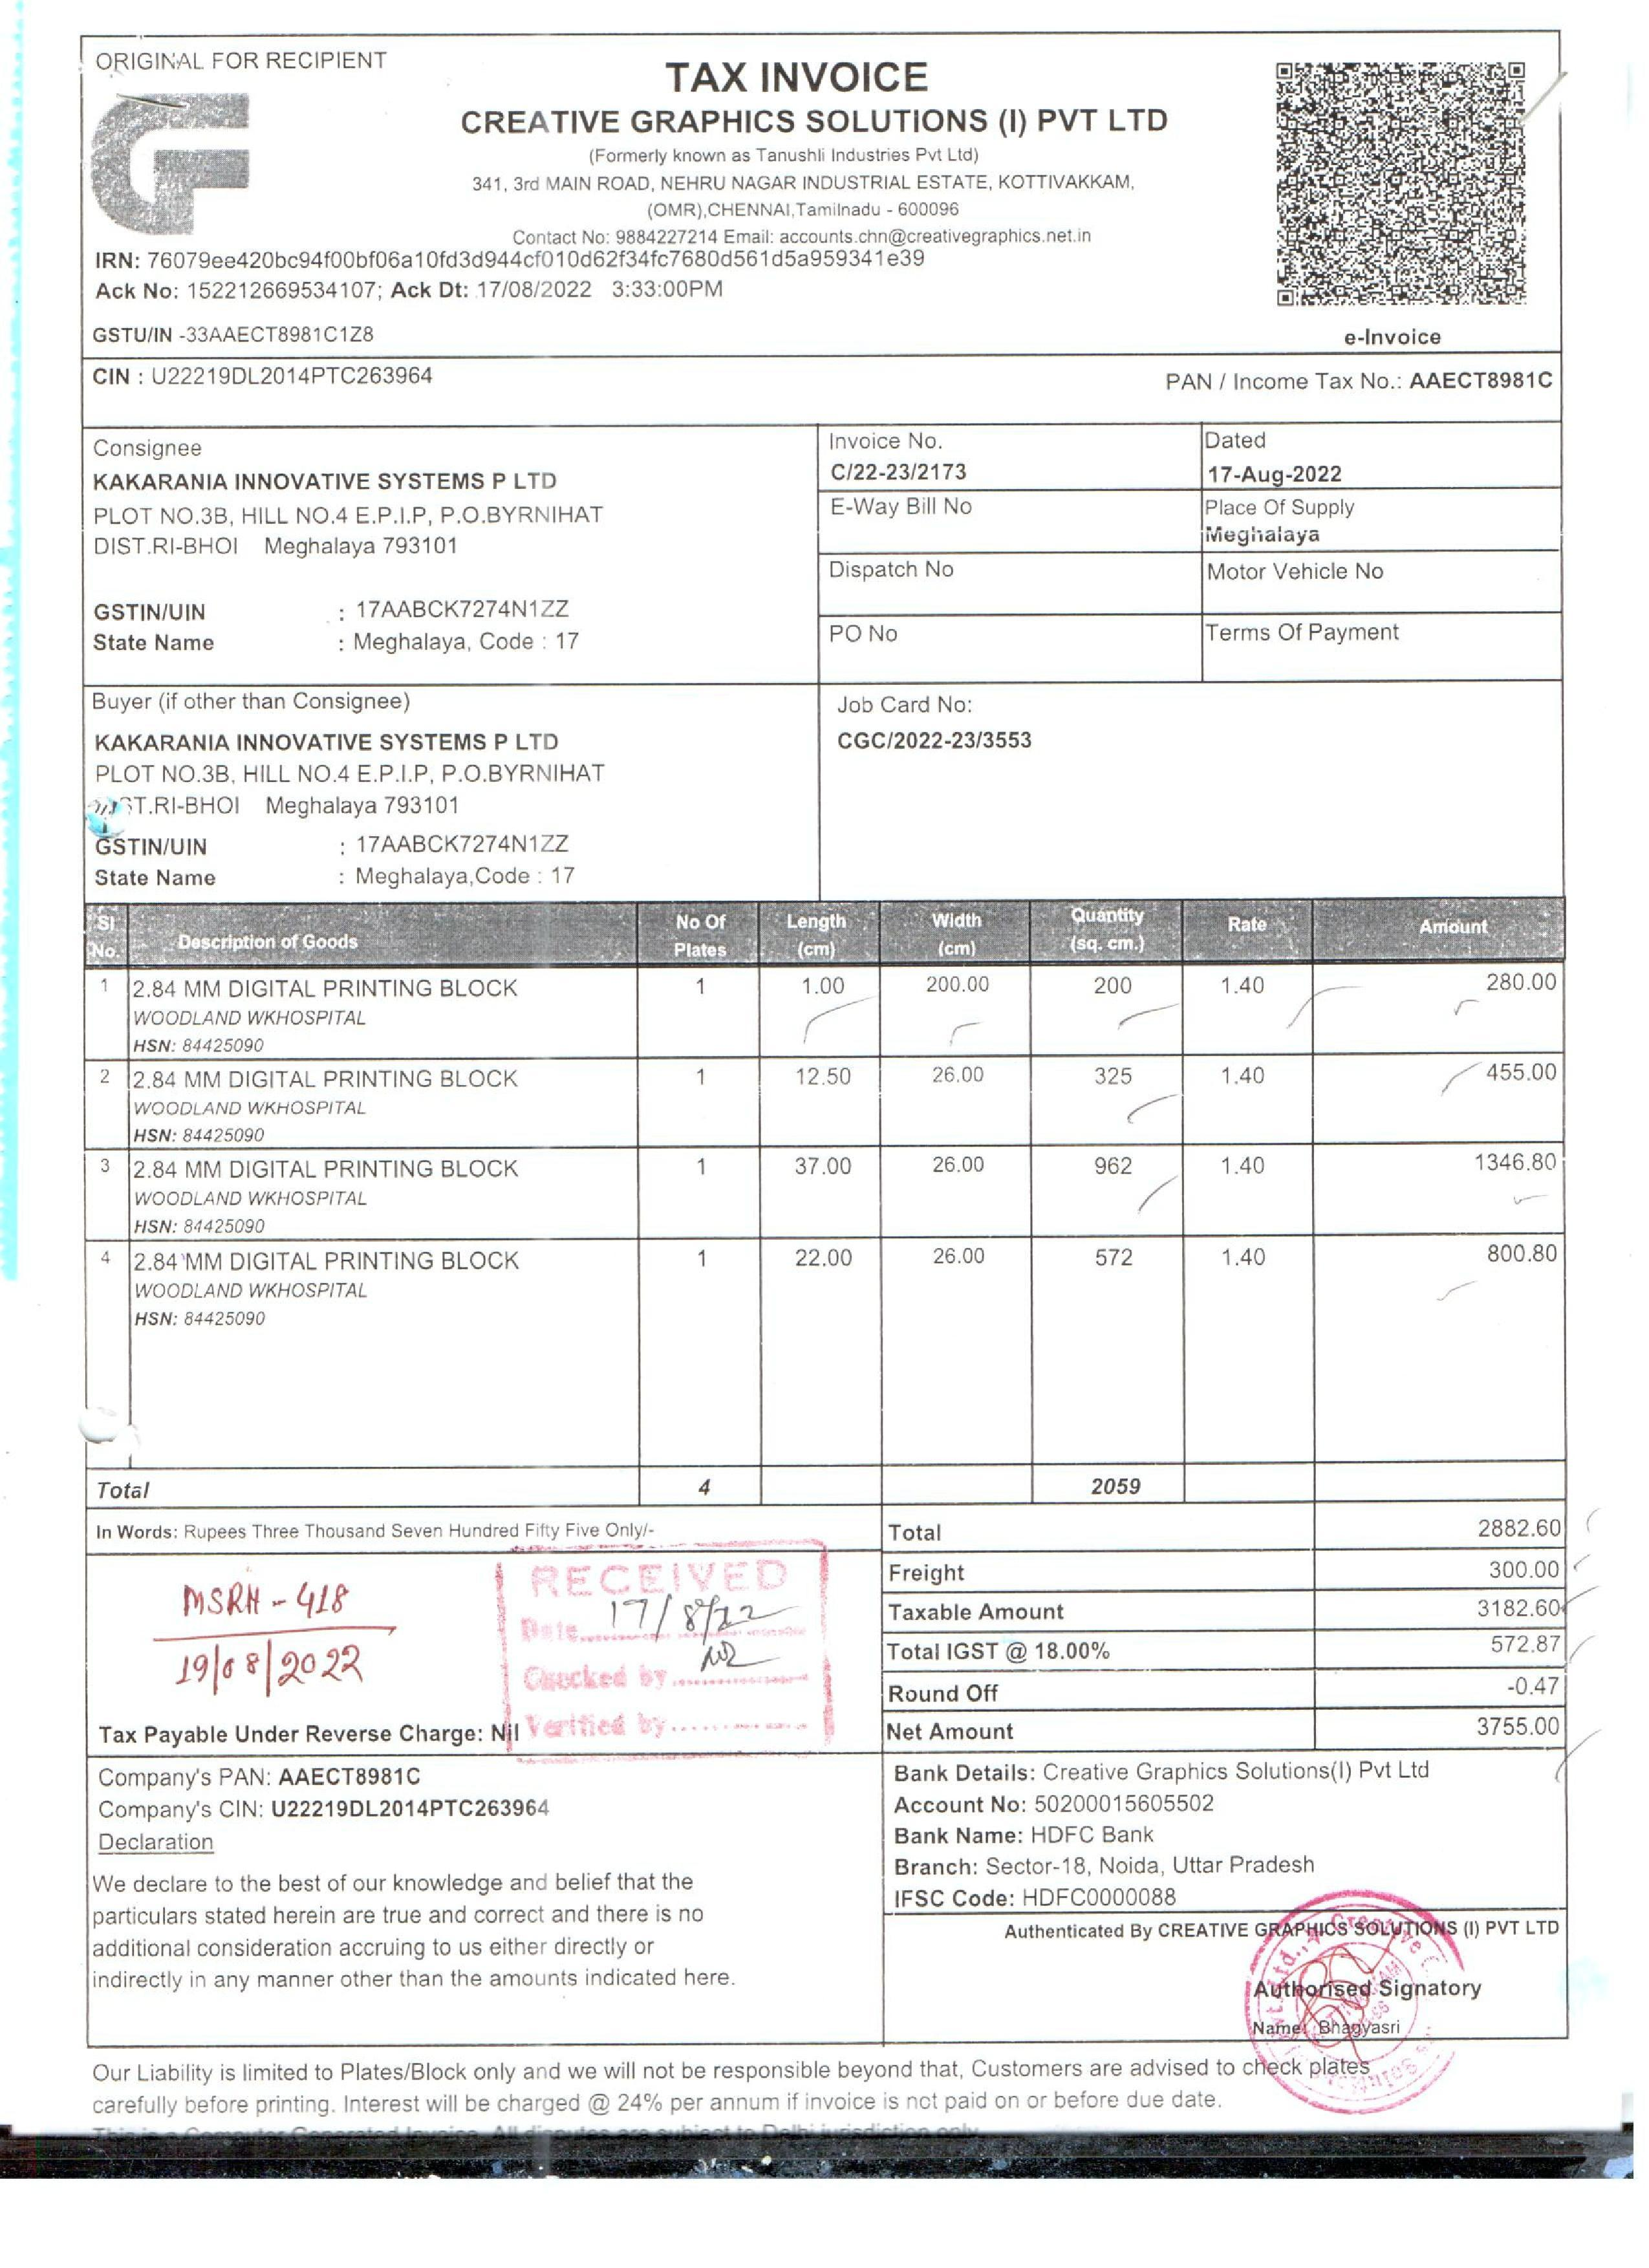InvoiceDate: (1204, 458, 1353, 490)
InvoiceNumber: (827, 460, 973, 486)
TotalAmount: (1469, 1713, 1563, 1745)
